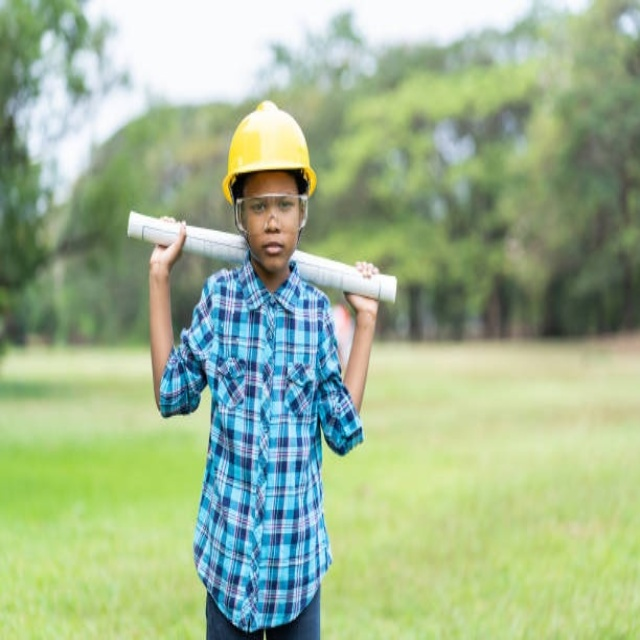Gafas: (236, 191, 308, 237)
Sin_guantes: (149, 218, 187, 279), (342, 264, 380, 322)
Sin_mascara: (259, 238, 287, 267)
